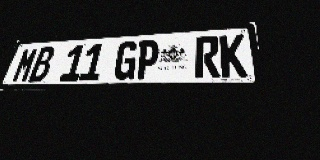1: (78, 43, 106, 81), (59, 44, 87, 81)
B: (28, 46, 56, 82)
G: (112, 41, 139, 80)
K: (220, 34, 248, 77)
M: (11, 47, 40, 82)
P: (134, 39, 160, 80)
R: (195, 36, 220, 78)
